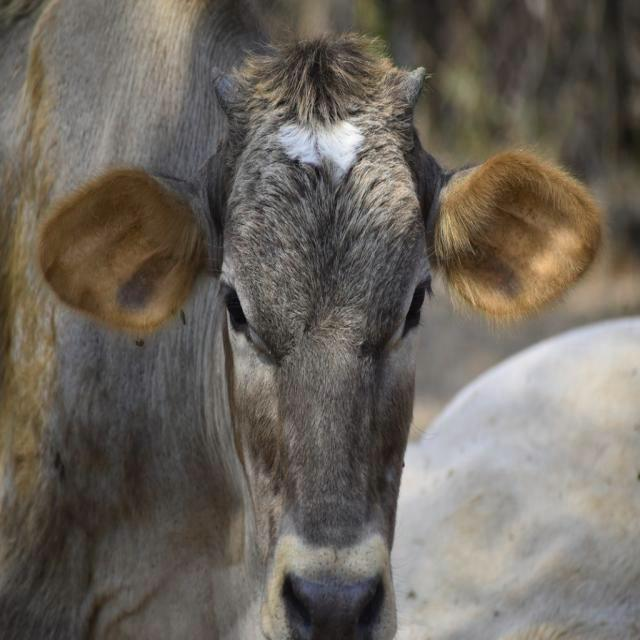cow: (1, 0, 600, 639)
